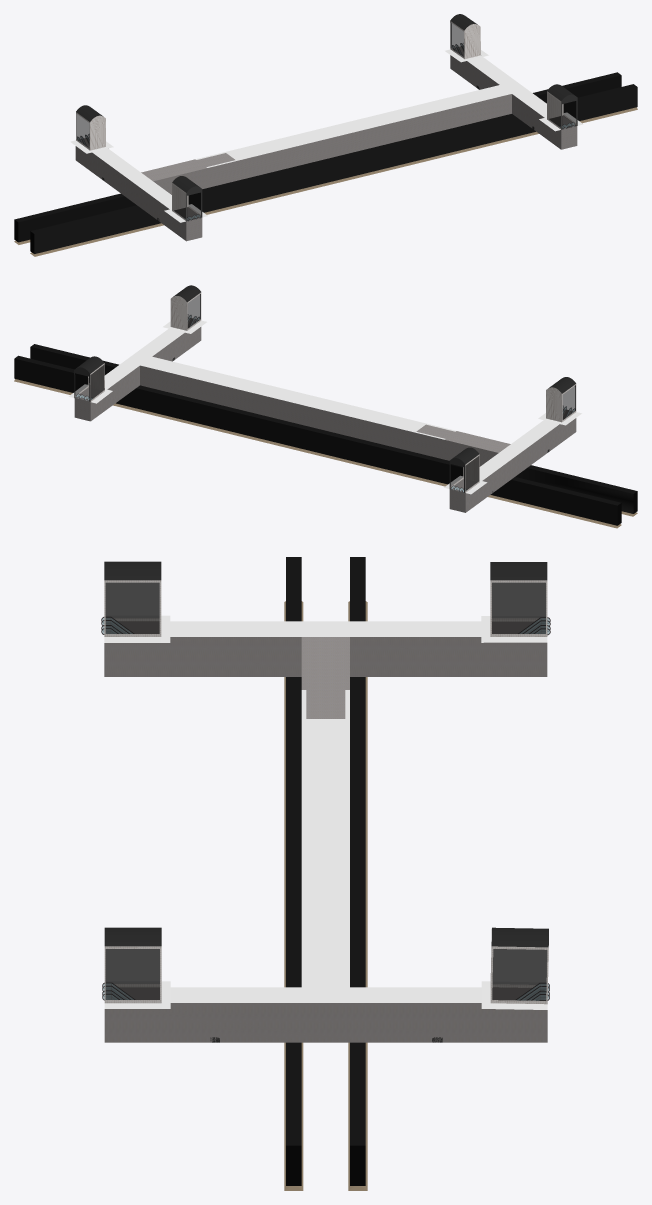
File: ditie.FBX
3 renders of one model, top to bottom at view 1: azimuth 30°, elevation 25°; view 2: azimuth 150°, elevation 25°; view 3: azimuth 270°, elevation 25°, orthographic. The views are drawn at different scales.
Parts seen in each view (by area): view 1: 组001; view 2: 组001; view 3: 组001.
Part boxes in pixels (x1=…): 组001: x1=14, y1=14, x2=637, y2=256; 组001: x1=14, y1=285, x2=637, y2=528; 组001: x1=101, y1=557, x2=550, y2=1190.
Size of the model in its own units: 231 by 27.51 by 74.37.
Materials: 35 (20 with a texture image).
